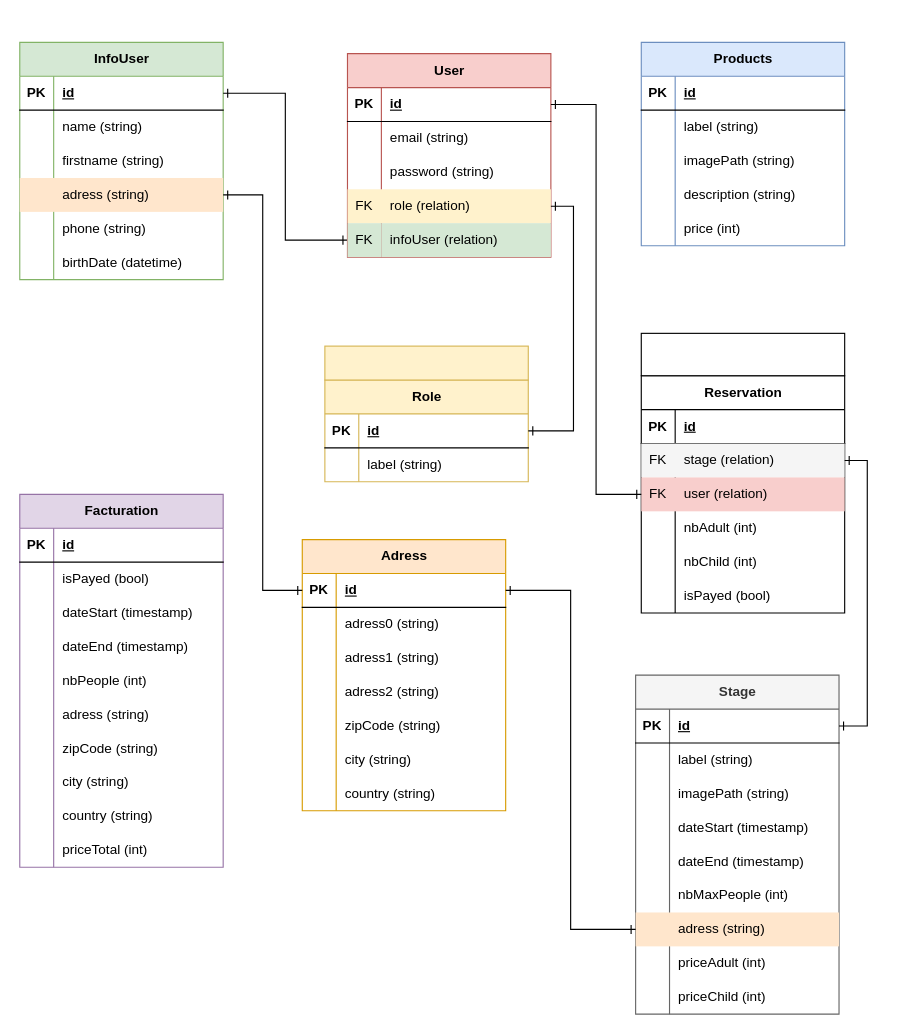
Some shapes in this 897 by 1034 pixel diagram are drawn without their labels. The centre of each missing label's shape, as x and y in pixels:
"label = admin, client" belongs at pixel 426 362.
"utiliser un thread pour gérer le isPayed avec un timeur" belongs at pixel 742 354.
